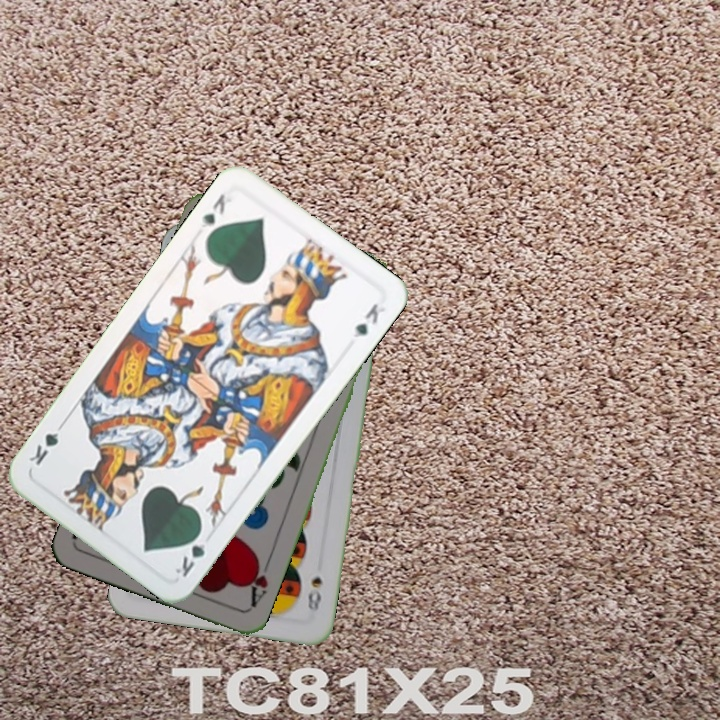GK: (171, 525, 208, 580), (196, 189, 235, 231)
HA: (243, 552, 273, 610)
S8: (303, 572, 325, 614)
